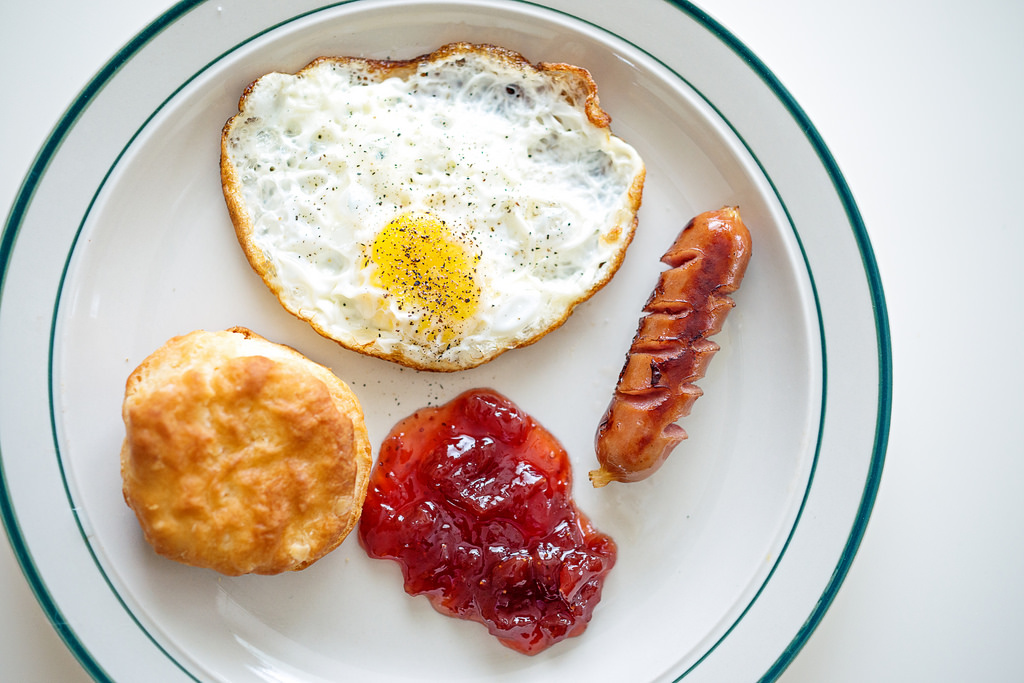fried egg: (239, 62, 626, 352)
slice of bread: (126, 338, 368, 576)
